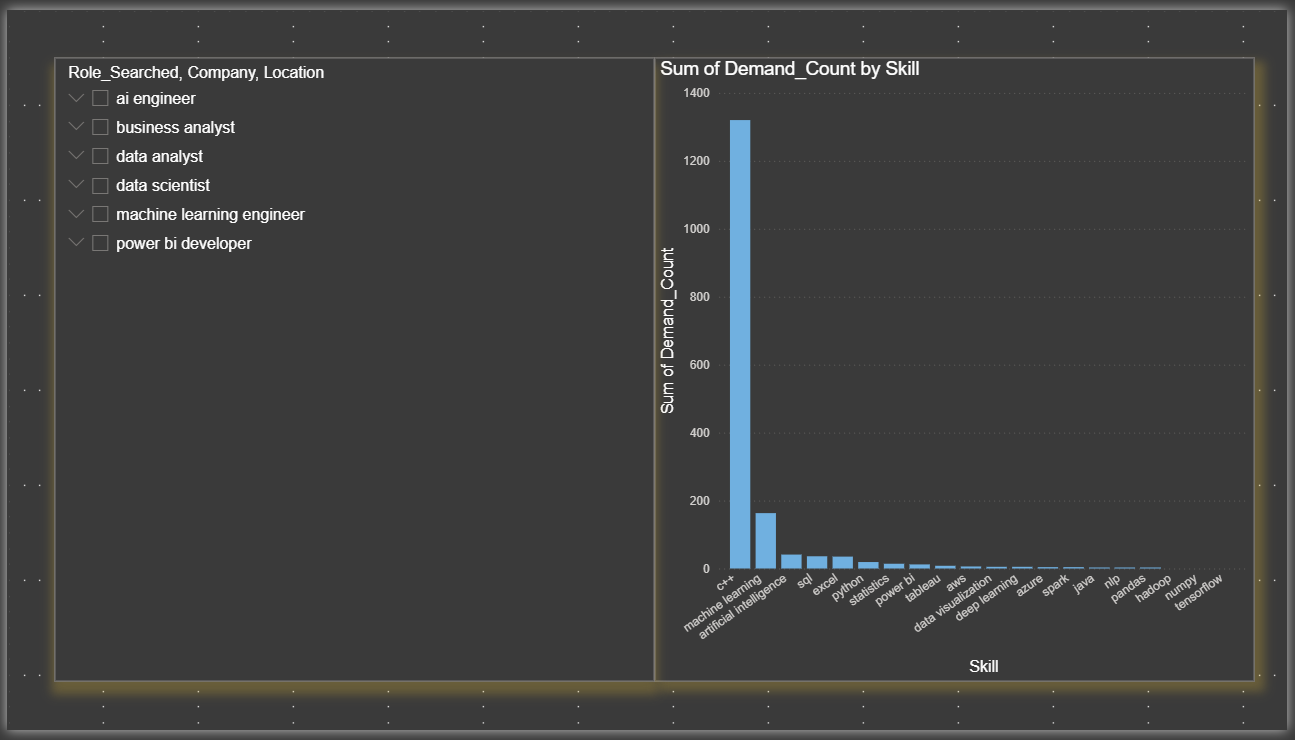

The page's visual inventory and layout, read from the dashboard file:
{"tool":"powerbi","page":{"name":"Skill Demand","canvas":[1280,720],"ordinal":4},"visuals":[{"type":"columnChart","fields":{"Category":["Sheet1.Skill"],"Y":["Sum(Sheet1.Demand_Count)"]},"box":[10,0,280,280],"z":0}]}

Visuals, with their boxes in screenshot pixels (x1, y1, x2, y2), scaled from the page's 1280x720 canvas onto the 1295x740 screenshot:
columnChart - Sheet1.Skill x Sum(Sheet1.Demand_Count): 10 0 293 288
